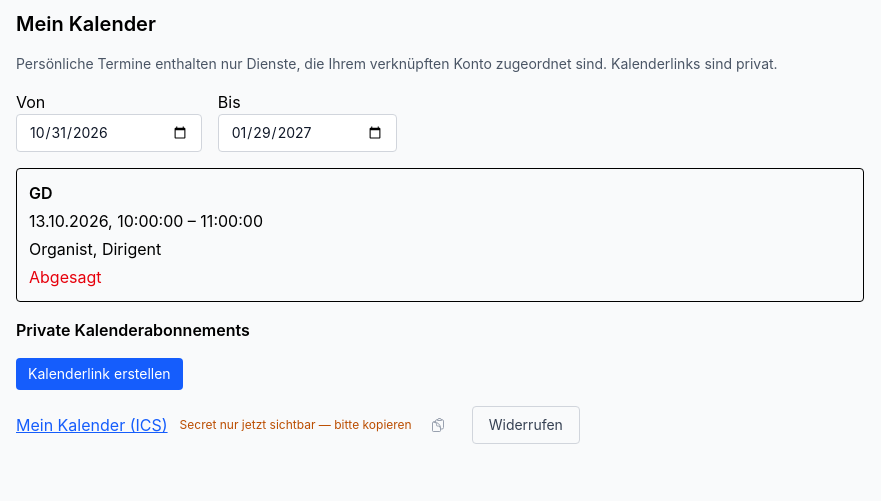
Test: reports feed creation and revocation failures without leaking stale state
The image size is (881, 501).
Click the button with test id "create-feed".
click(99, 374)  # box [16,358,183,390]
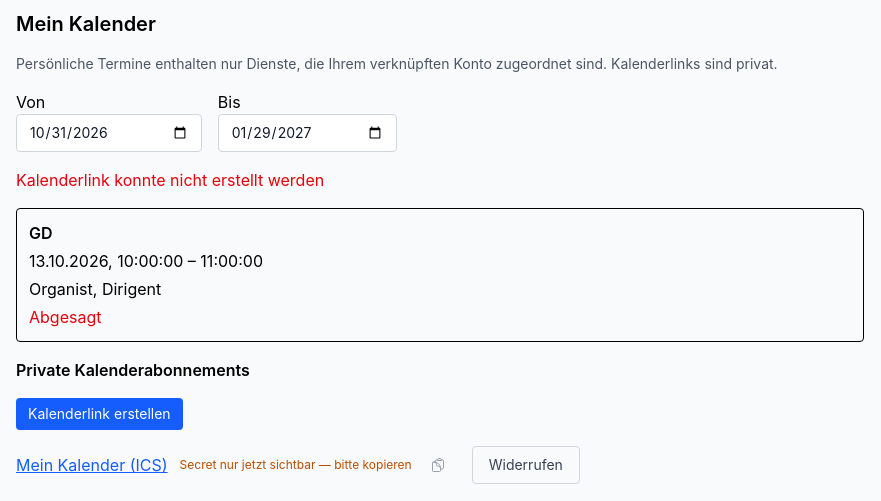
Check: the message "Kalenderlink konnte nicht erstellt werden" is shown, box [16,170,324,190]
Click the button "Widerrufen".
click(526, 465)  # box [472,446,580,484]
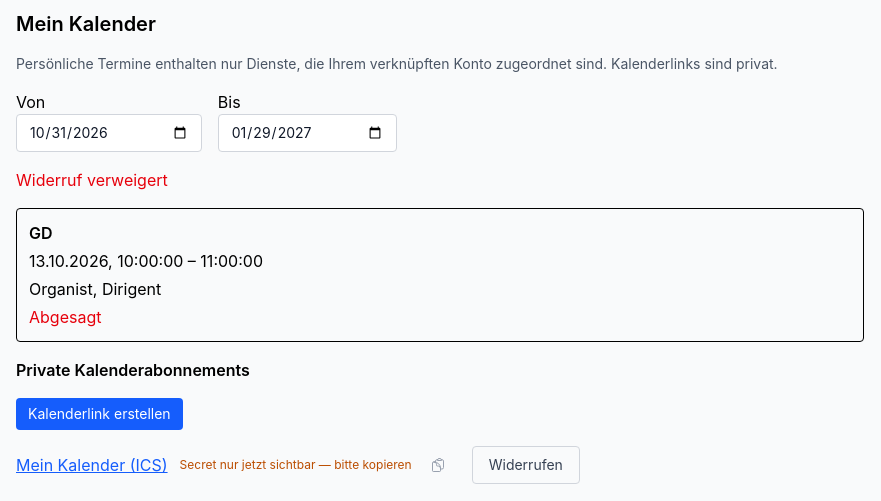
Check: the message "Widerruf verweigert" is shown, box [16,170,168,190]
